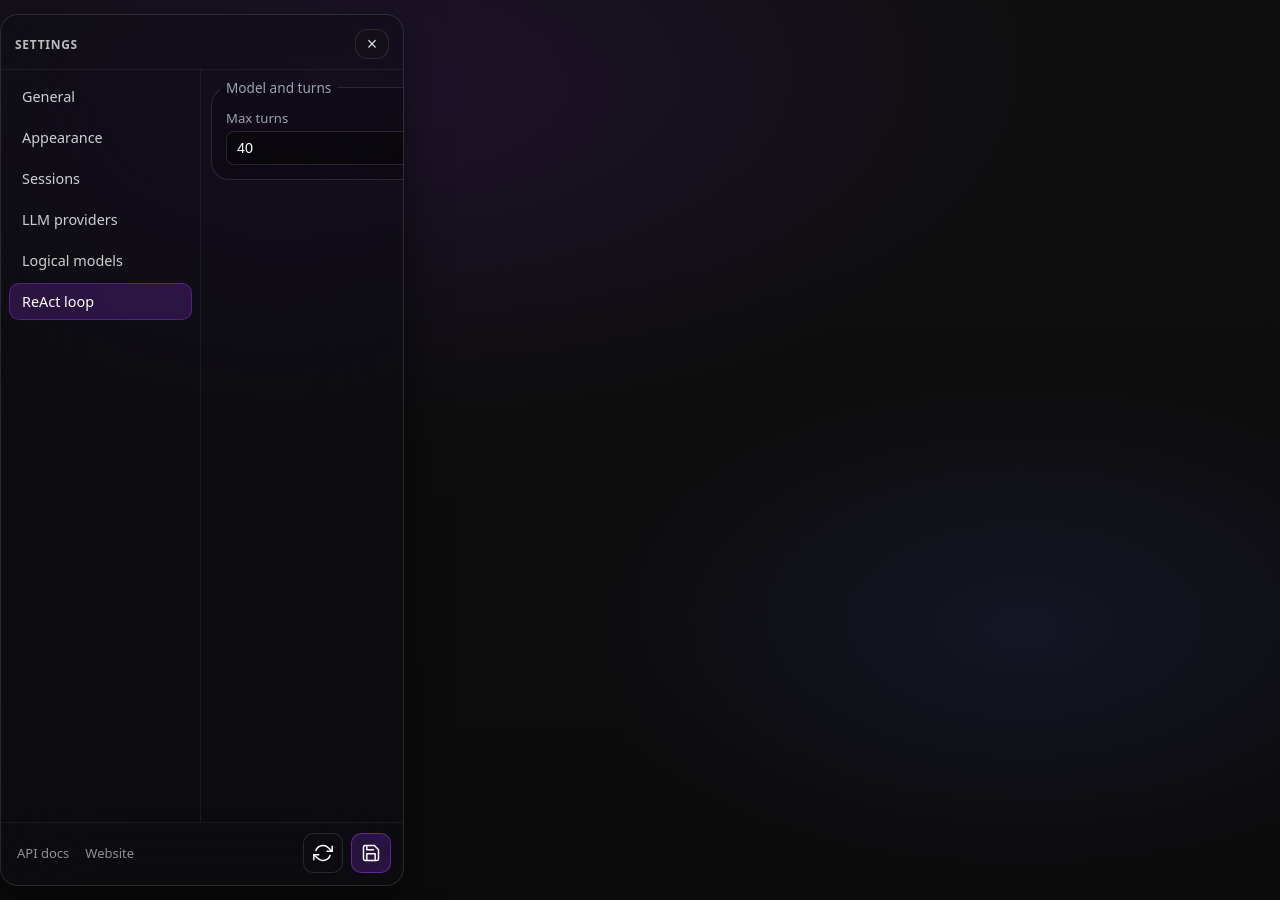
a failed save right after a successful one leaves the button as it was
The width and height of the screenshot is (1280, 900).
Expected: the number field named "Max turns" is shown, x1=226 y1=131 x2=403 y2=165
Click the button with test id "settings-save".
click(371, 853)  # box x1=351 y1=833 x2=391 y2=873
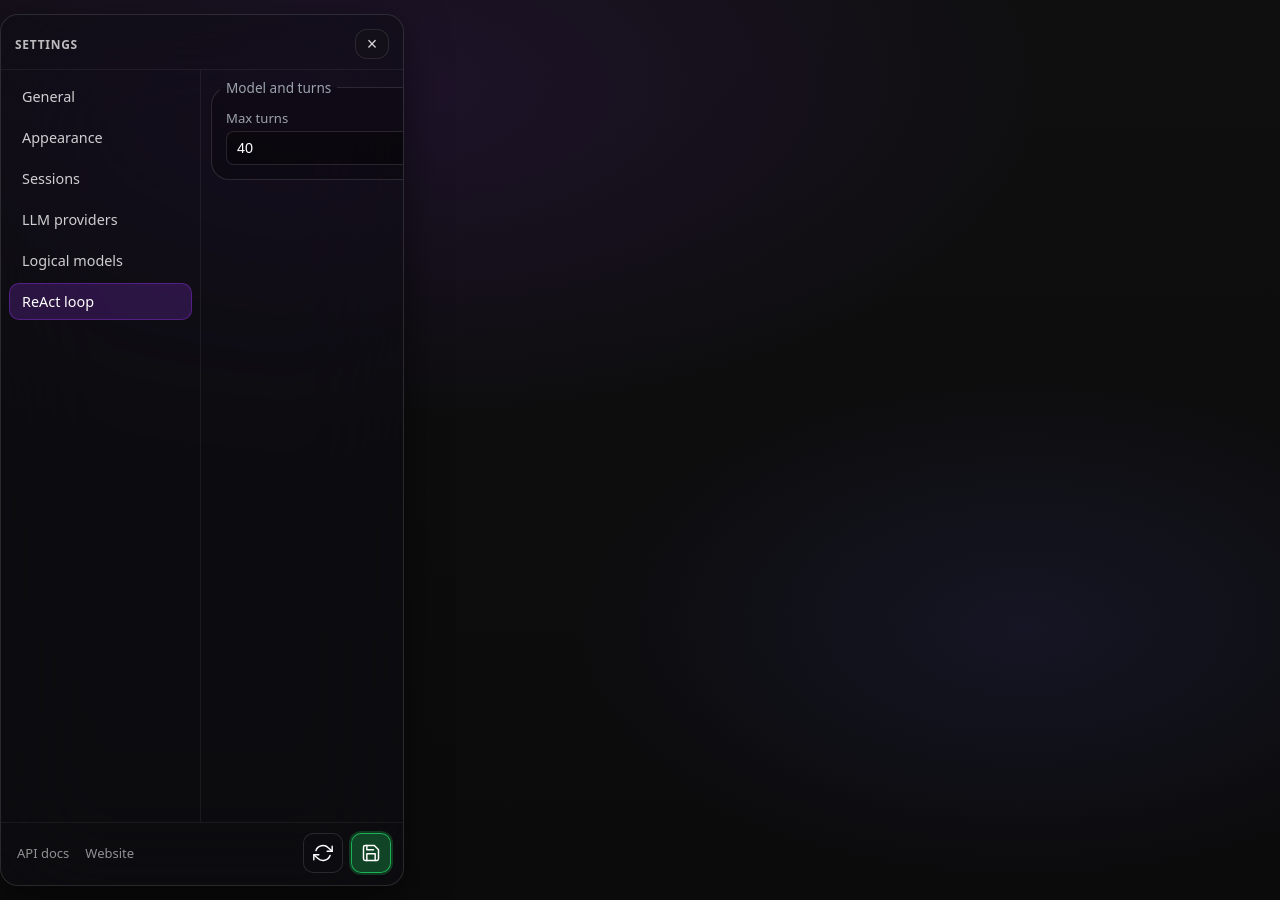
Result: the button with test id "settings-save" has class "is-saved"
Click the button with test id "settings-save".
click(371, 853)  # box x1=351 y1=833 x2=391 y2=873
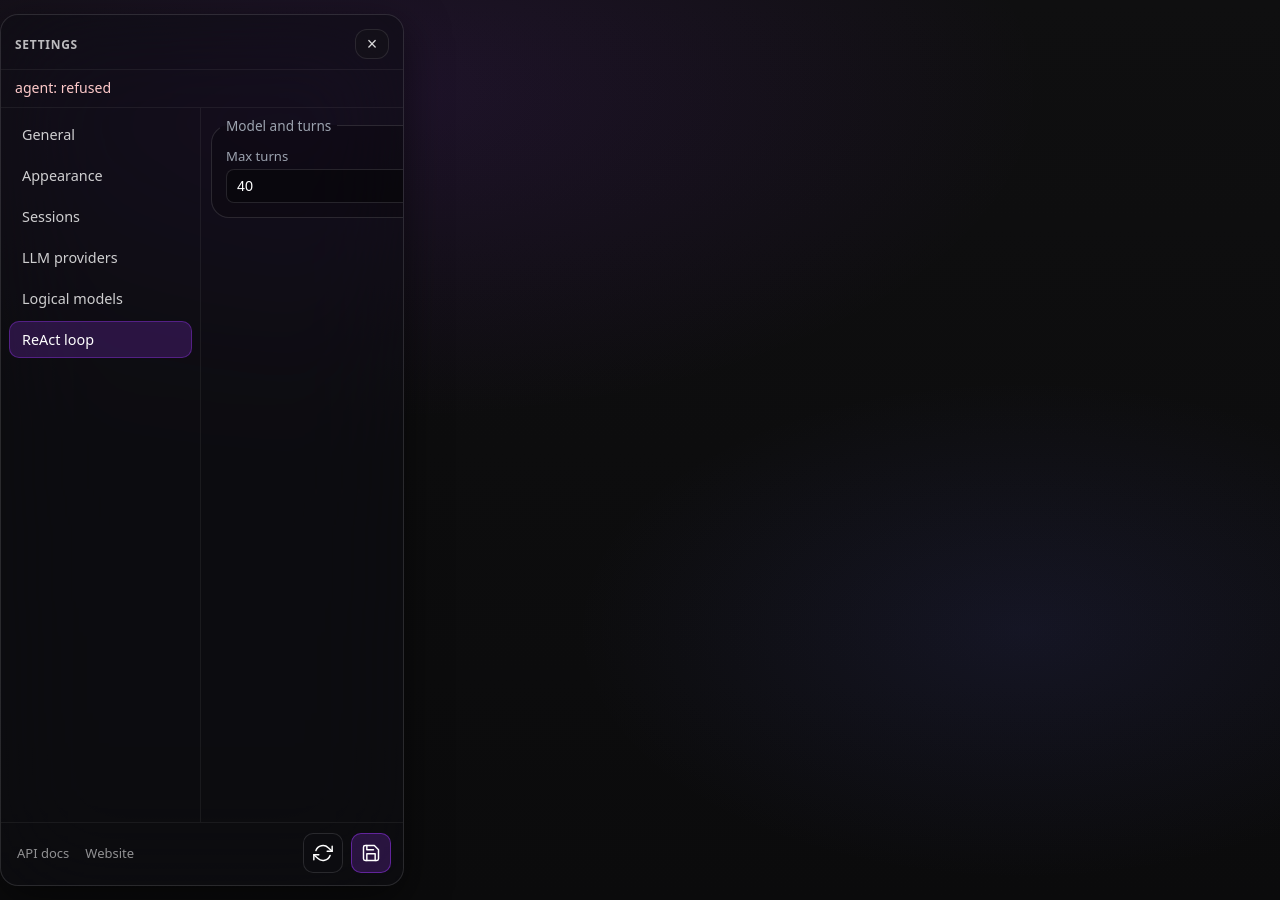
Result: the text with class "settings-error" reads "agent: refused" at x1=15 y1=78 x2=111 y2=97
